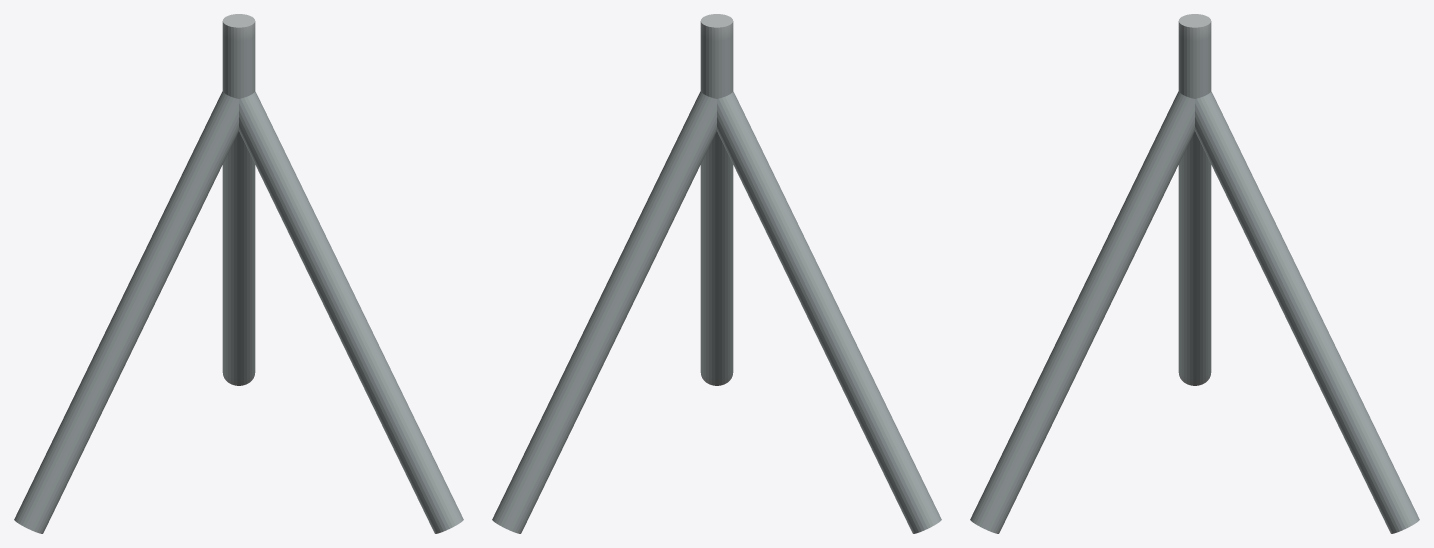
File: apolloa.obj
3 views of the same model, side by side, from view 1: azimuth 30°, elevation 25°; view 2: azimuth 150°, elevation 25°; view 3: azimuth 270°, elevation 25° (orthographic).
Visible parts, largest first — view 1: ColobotMesh_1_ColobotMesh_; view 2: ColobotMesh_1_ColobotMesh_; view 3: ColobotMesh_1_ColobotMesh_.
Part boxes in pixels (left/top/right/bottom): ColobotMesh_1_ColobotMesh_: left=14, top=14, right=463, bottom=533; ColobotMesh_1_ColobotMesh_: left=492, top=14, right=941, bottom=533; ColobotMesh_1_ColobotMesh_: left=970, top=14, right=1419, bottom=533.
Size of the model in its own units: 4.87 by 6.3 by 5.56.
